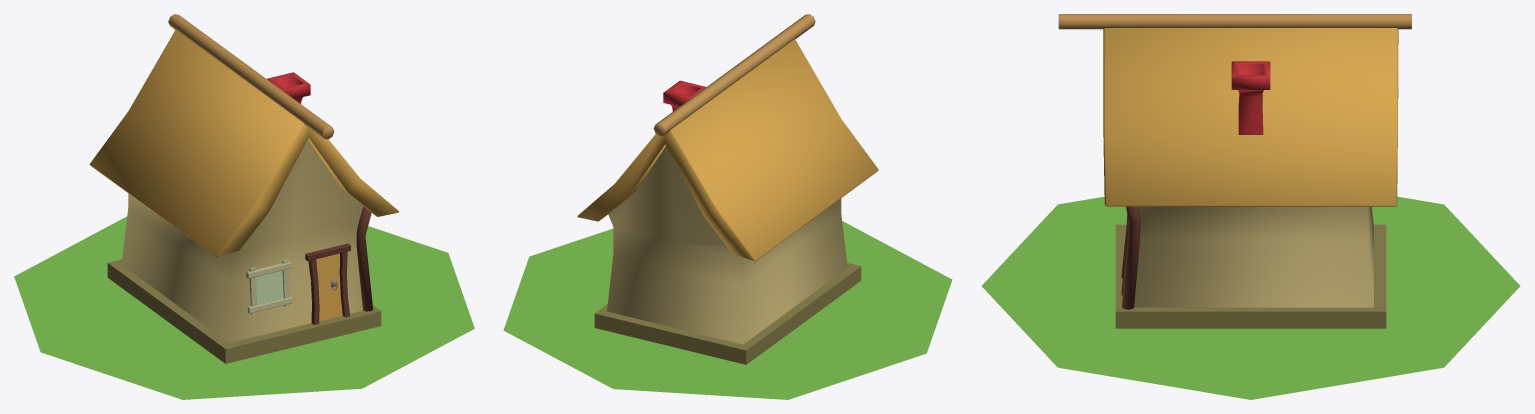
The model's file is house1.dae.
The picture shows the model from 3 angles, left to right: view 1: azimuth 30°, elevation 25°; view 2: azimuth 150°, elevation 25°; view 3: azimuth 270°, elevation 25°; orthographic projection. The views are drawn at different scales.
Parts seen in each view (by area): view 1: Plane_002, Plane_001, Plane, Cube_001, Cylinder_001, Cube, Cube_002, Cube_005, Cylinder, Cube_003, Cube_004; view 2: Plane_002, Plane_001, Plane, Cube_001, Cylinder_001, Cube_004; view 3: Plane_001, Plane_002, Plane, Cube_001, Cylinder_001, Cube_004, Cylinder.
Boxes of the visible parts, <box> form: Plane_002: <box>14,216,474,399</box>; Plane_001: <box>89,30,398,256</box>; Plane: <box>121,140,362,342</box>; Cube_001: <box>107,259,381,363</box>; Cylinder_001: <box>168,14,334,139</box>; Cube: <box>305,243,350,324</box>; Cube_002: <box>316,253,342,321</box>; Cube_005: <box>246,259,292,315</box>; Cylinder: <box>356,206,373,311</box>; Cube_003: <box>256,270,283,304</box>; Cube_004: <box>267,72,310,103</box>; Plane_002: <box>503,221,952,399</box>; Plane_001: <box>577,39,878,261</box>; Plane: <box>607,146,847,344</box>; Cube_001: <box>594,263,861,364</box>; Cylinder_001: <box>653,14,815,136</box>; Cube_004: <box>663,80,705,111</box>; Plane_001: <box>1103,28,1398,206</box>; Plane_002: <box>981,196,1520,399</box>; Plane: <box>1134,206,1373,307</box>; Cube_001: <box>1115,224,1386,328</box>; Cylinder_001: <box>1058,14,1411,29</box>; Cube_004: <box>1231,61,1270,134</box>; Cylinder: <box>1121,206,1140,309</box>.
Size of the model in its own units: 17.49 by 17.49 by 9.73.
